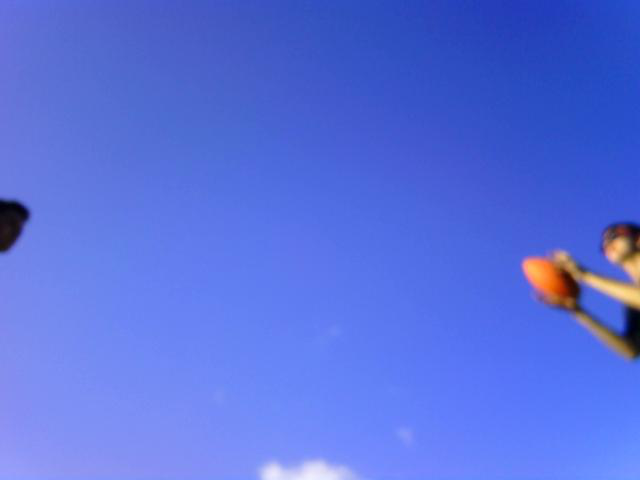football: (518, 252, 584, 306)
